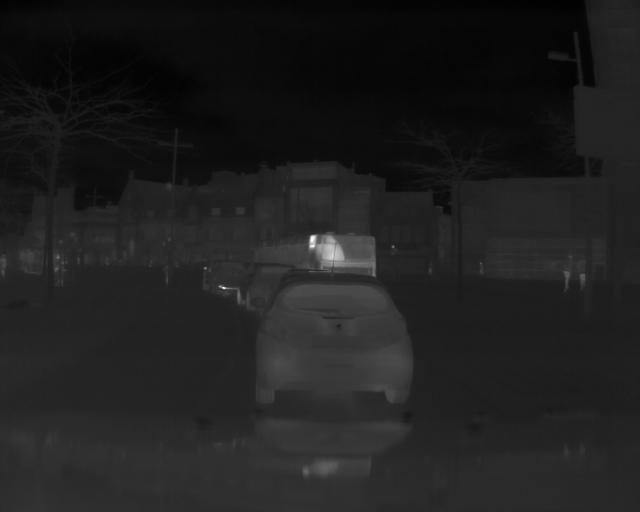car: (252, 270, 416, 411), (200, 257, 247, 309)
